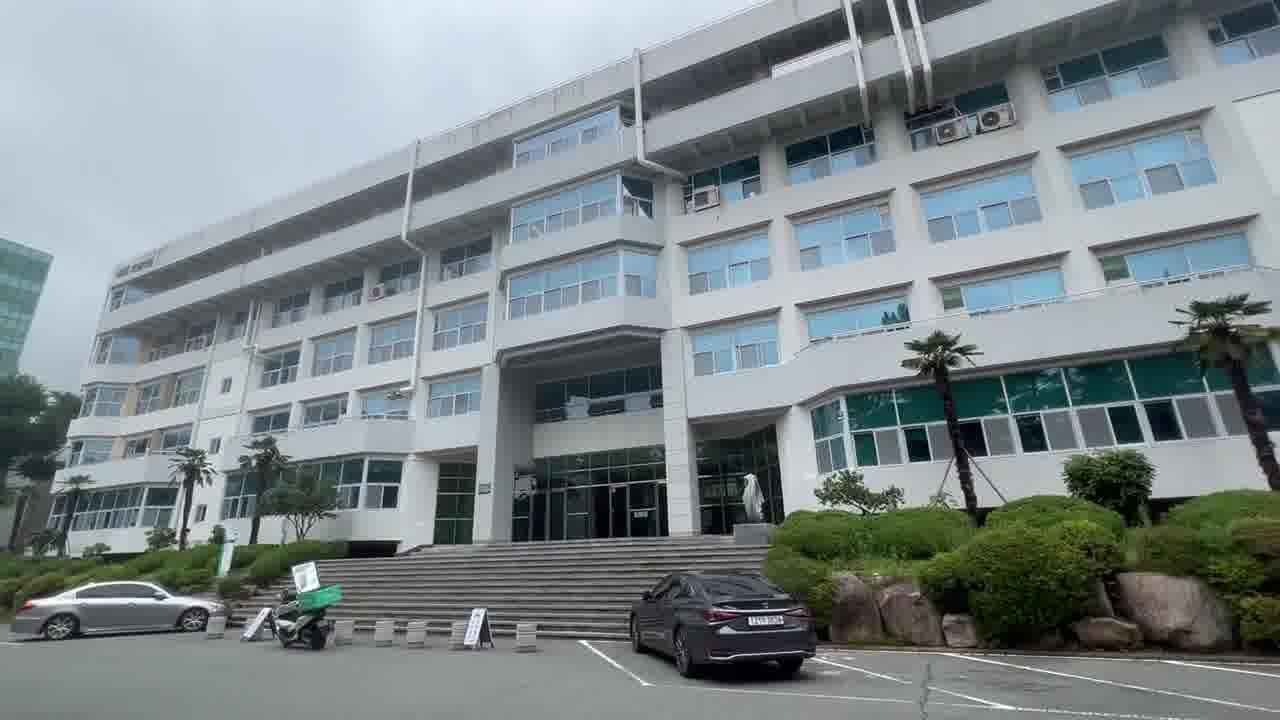building: (91, 84, 1280, 488)
